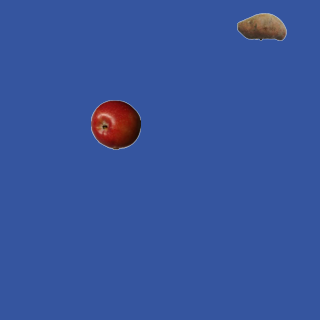Apple Braeburn: (90, 99, 140, 149)
Potato Sweet: (236, 1, 286, 51)
